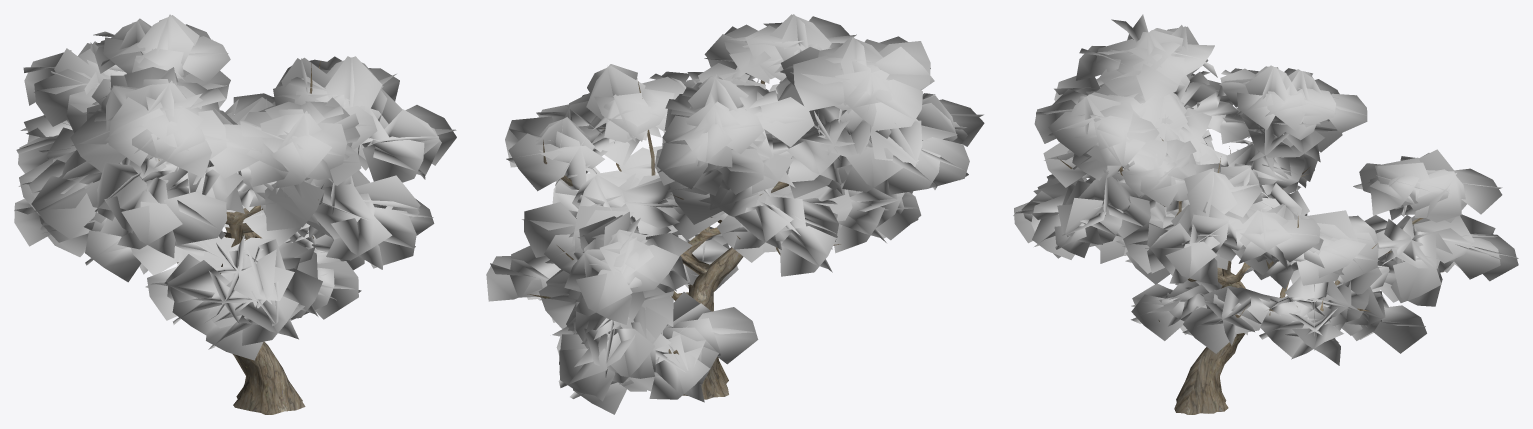
Rendered from SM_Com_Tre_05AH.fbx.
The picture shows the model from 3 angles, left to right: view 1: azimuth 30°, elevation 25°; view 2: azimuth 150°, elevation 25°; view 3: azimuth 270°, elevation 25°; orthographic projection. The views are drawn at different scales.
Visible parts, largest first — view 1: SM_Com_Tre_05AH.mo; view 2: SM_Com_Tre_05AH.mo; view 3: SM_Com_Tre_05AH.mo.
Boxes of the visible parts, left/top/right/bottom form: SM_Com_Tre_05AH.mo: left=14, top=14, right=456, bottom=414; SM_Com_Tre_05AH.mo: left=486, top=14, right=984, bottom=414; SM_Com_Tre_05AH.mo: left=1013, top=14, right=1518, bottom=414.
Size of the model in its own units: 36.02 by 29.77 by 42.61.
